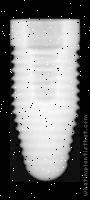Anthogyr: (8, 19, 80, 182)
